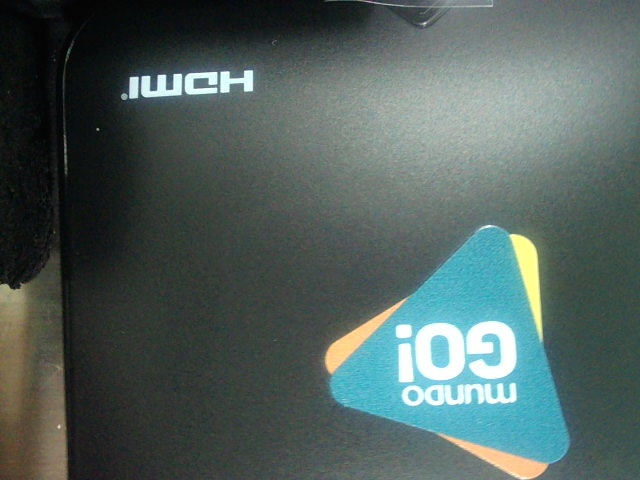AP_IPGMundoGO: (302, 222, 599, 477)
